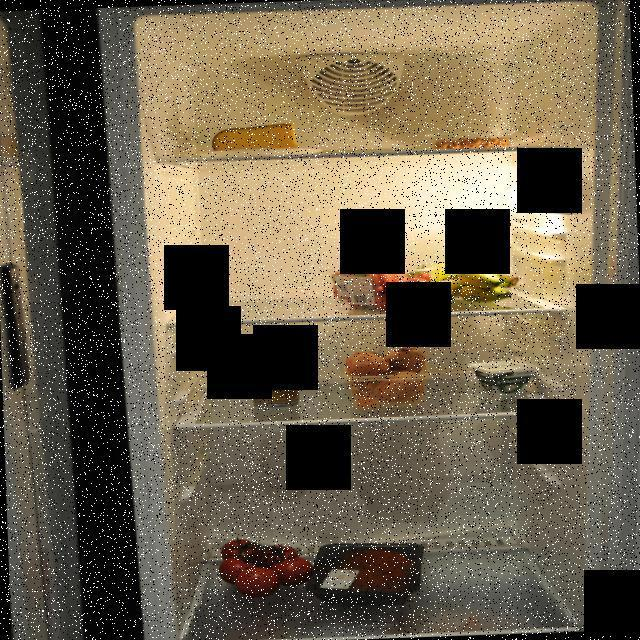banana: (421, 256, 524, 308)
beef: (325, 546, 404, 592)
cheese: (210, 120, 305, 154)
corn: (246, 364, 306, 410)
goat_cheese: (471, 356, 536, 398)
onion: (341, 344, 432, 408)
shrimp: (430, 133, 522, 151)
strawberries: (328, 258, 436, 315)
tomato: (213, 532, 316, 598)
